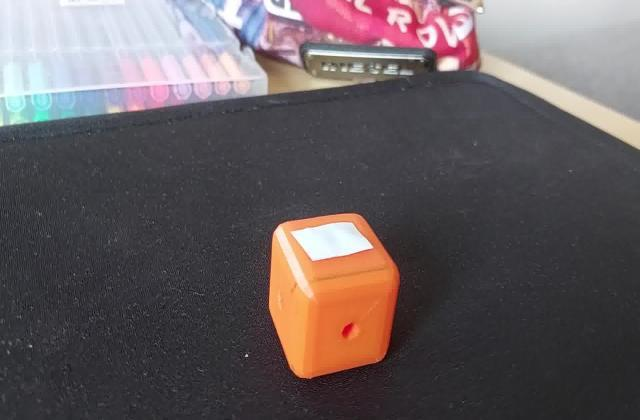cube: (266, 207, 405, 380)
